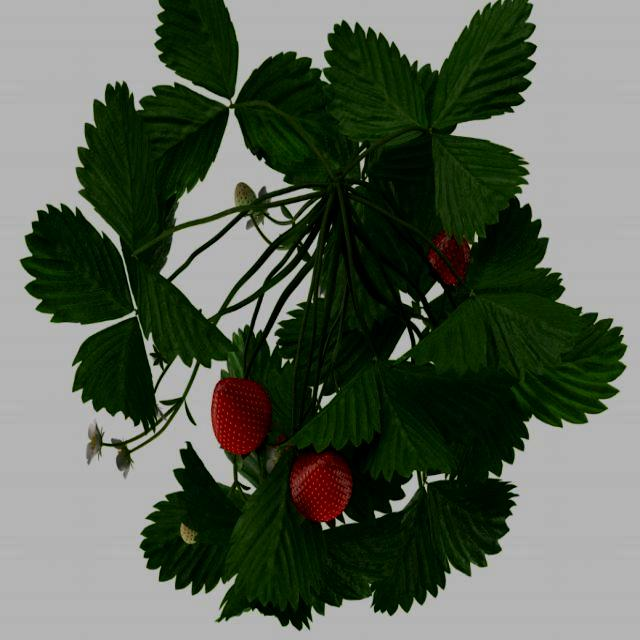ripe: (202, 369, 280, 458), (289, 446, 355, 526), (424, 230, 478, 296)
unripe: (232, 182, 260, 224), (182, 517, 200, 550)
